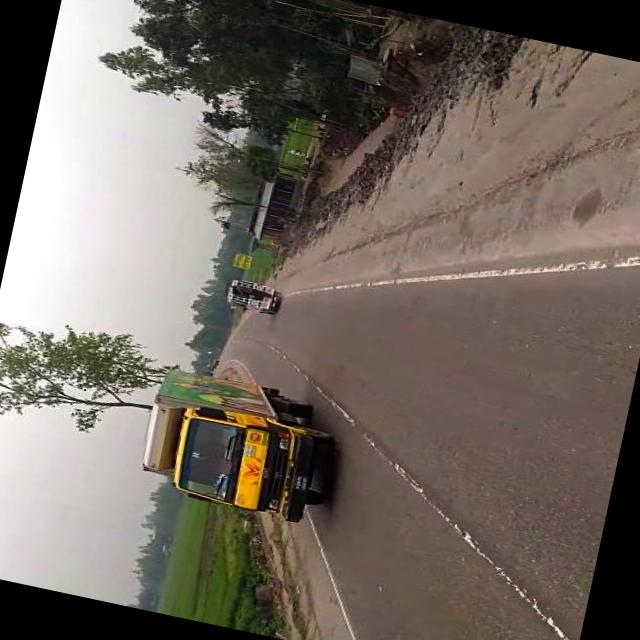bus: (222, 273, 282, 316)
truck: (132, 358, 346, 528), (205, 355, 218, 363)
